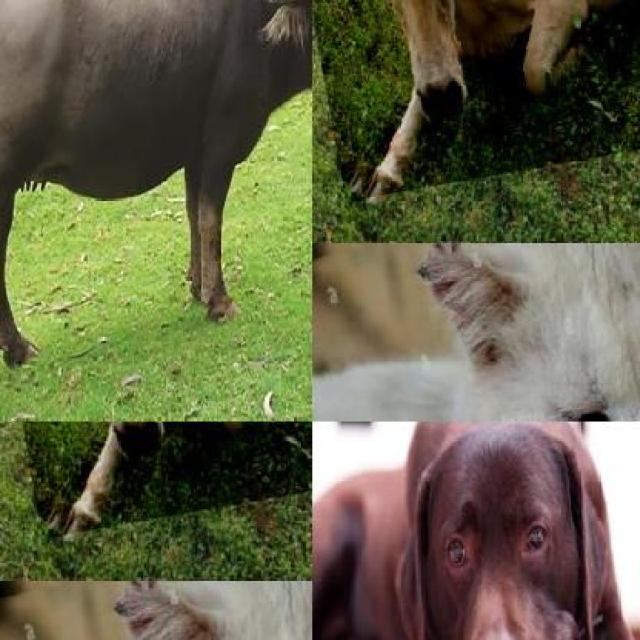buffalo: (0, 0, 312, 329)
cat: (312, 243, 640, 422), (0, 580, 312, 640)
cow: (312, 0, 640, 200), (0, 421, 312, 536)
dog: (312, 421, 639, 640)
